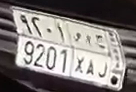0: (46, 26, 56, 70)
1: (58, 24, 69, 74)
2: (33, 16, 46, 68)
9: (20, 13, 34, 66)
A: (84, 35, 95, 77)
J: (96, 35, 108, 78)
X: (73, 32, 85, 73)
